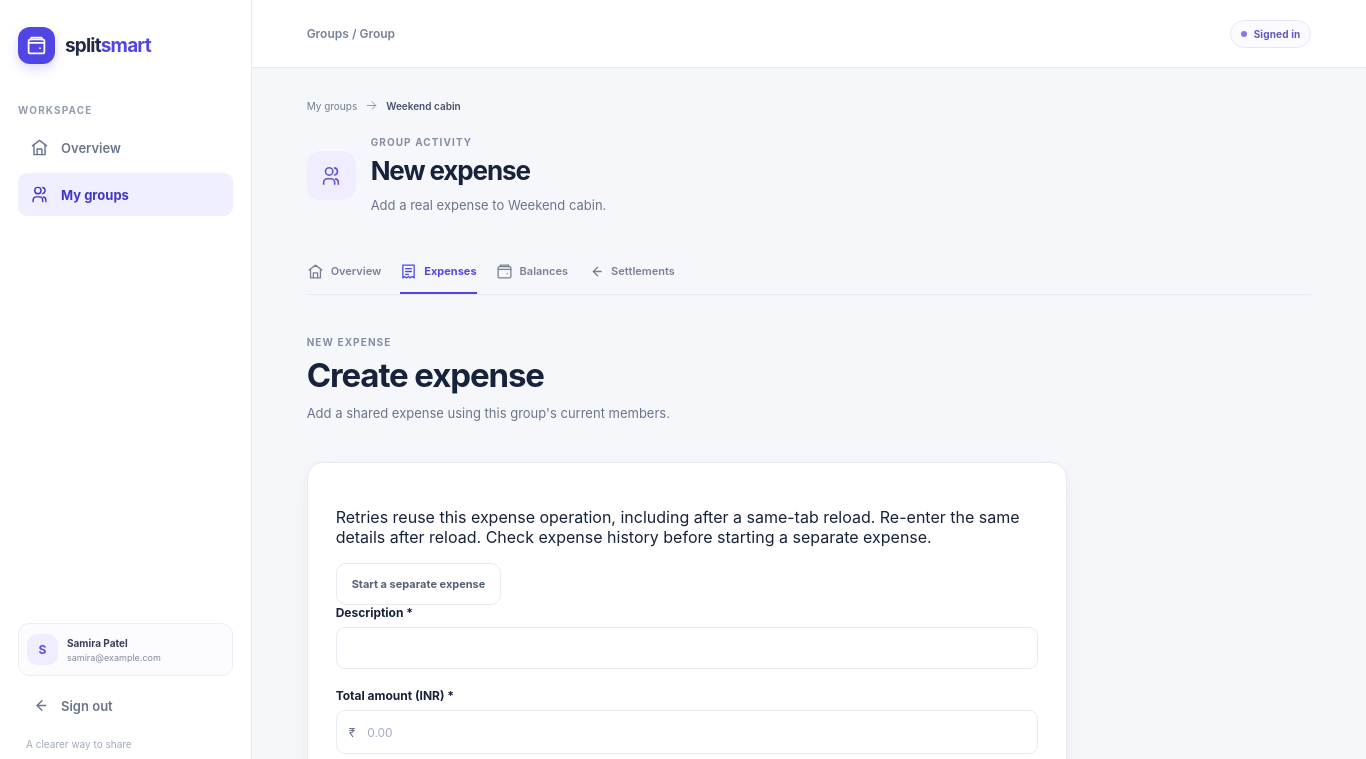
Test: expense creation › rejects invalid input without making an API request: Enter an expense description.
In the field labelled "Total amount (INR) *": {"x": 696, "y": 732} x1=355 y1=711 x2=1037 y2=753, type "10"
(page scrolled)
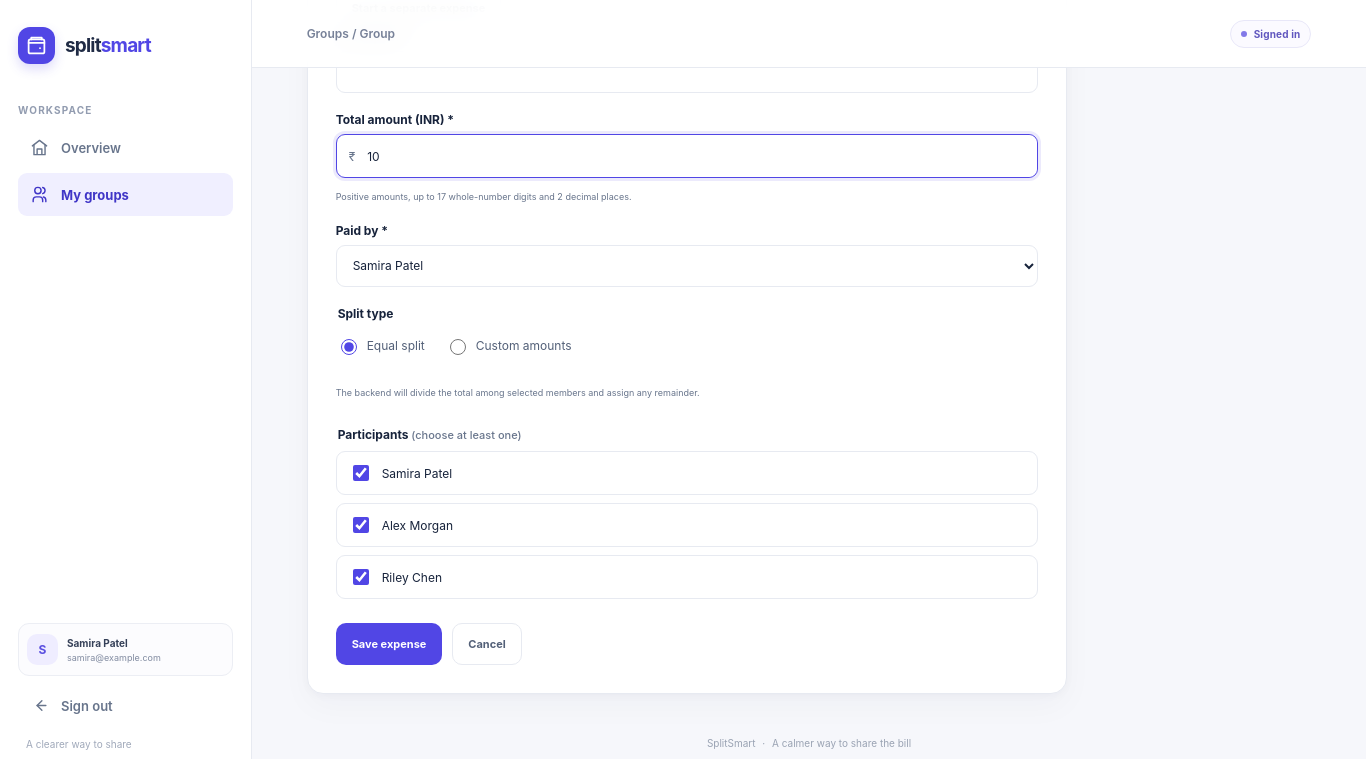
Click the button "Save expense": {"x": 389, "y": 644} x1=336 y1=623 x2=442 y2=665
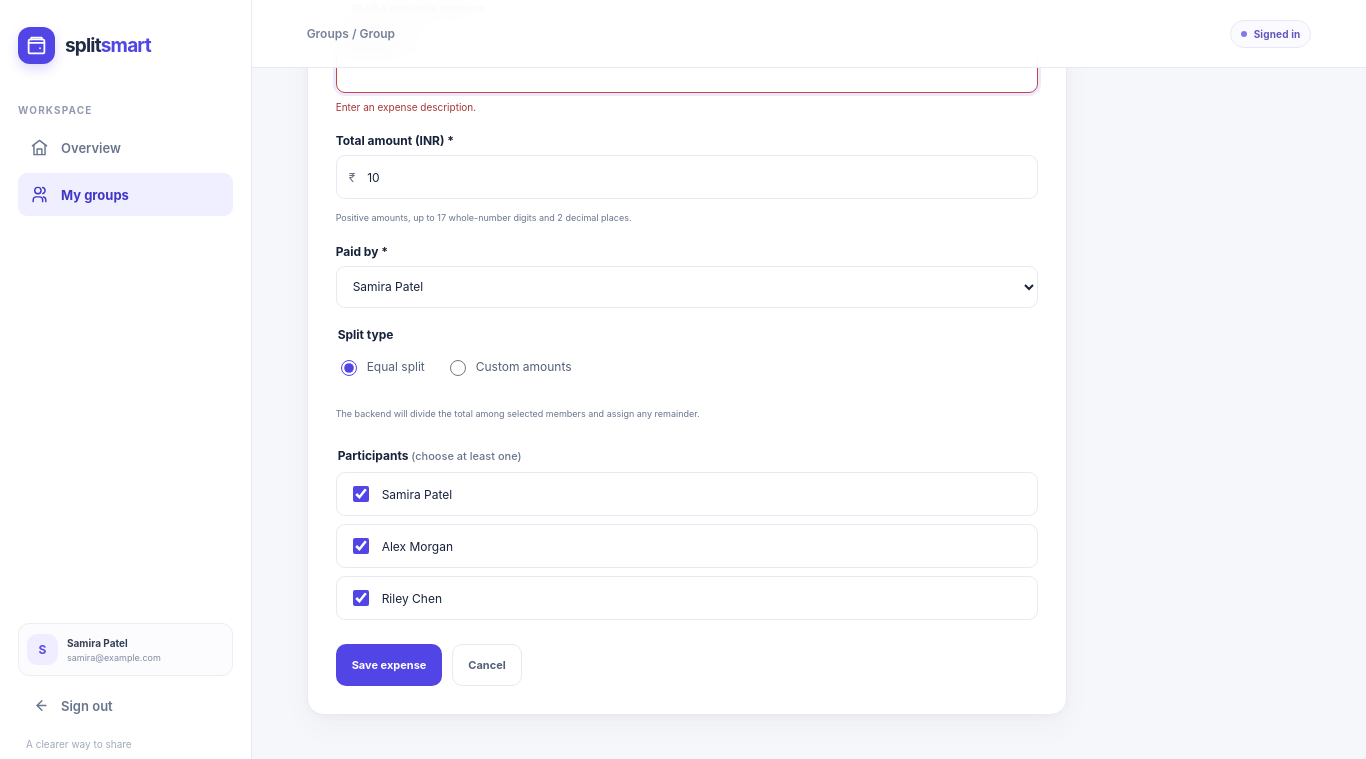
Expected: the message reads "Enter an expense description.", x1=336 y1=101 x2=476 y2=113
